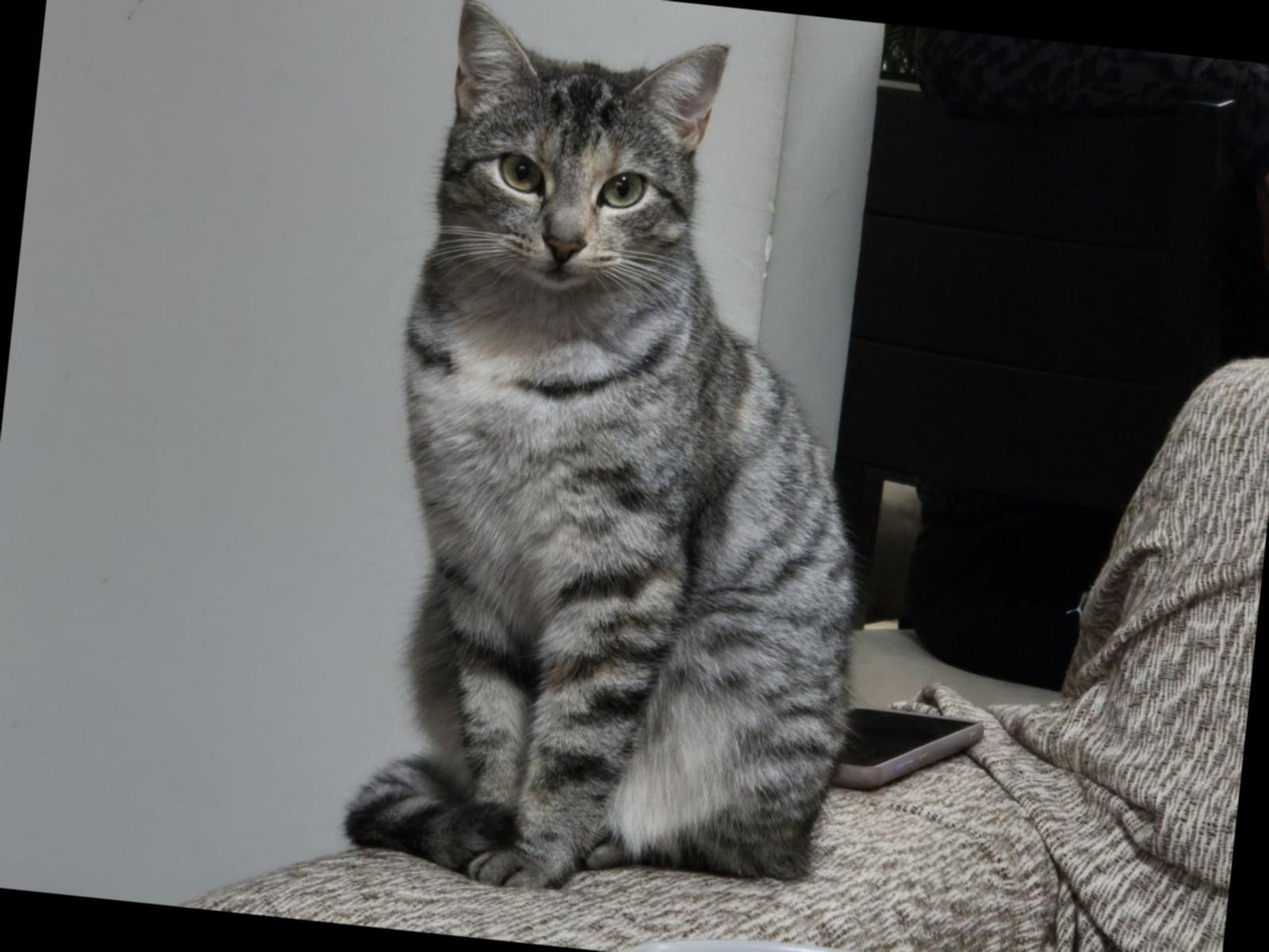macka: (335, 0, 920, 922)
